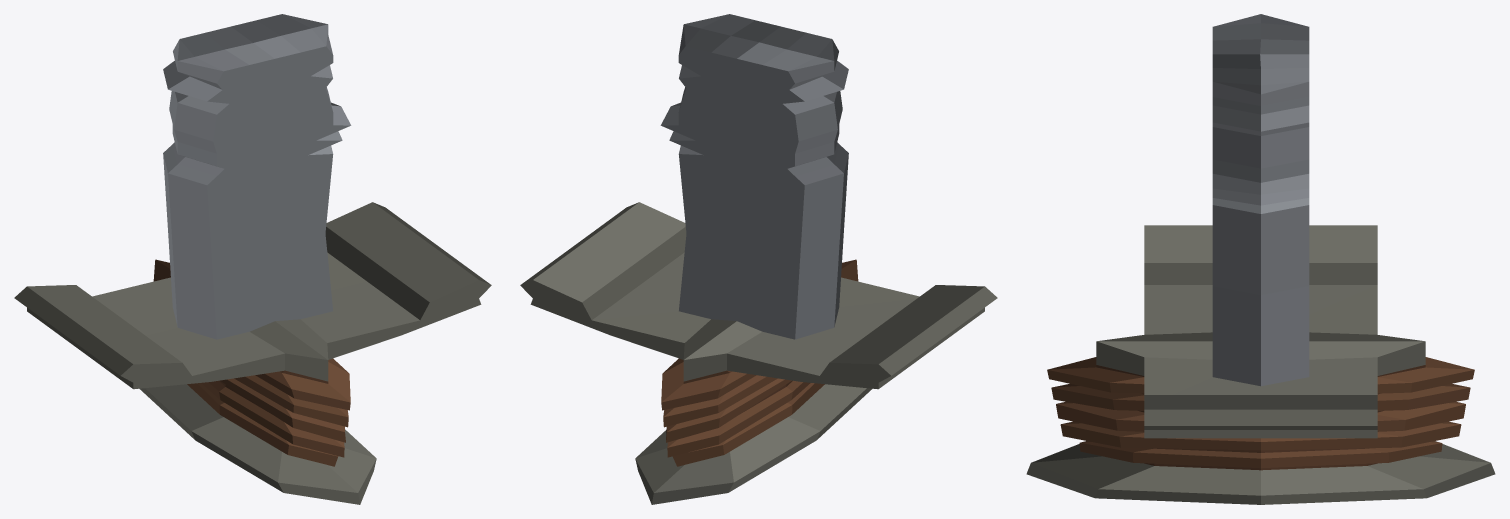
File: gild_sword.glb
3 renders of one model, left to right at view 1: azimuth 30°, elevation 25°; view 2: azimuth 150°, elevation 25°; view 3: azimuth 270°, elevation 25°, orthographic. The views are drawn at different scales.
Size of the model in its own units: 2 by 2 by 2.
